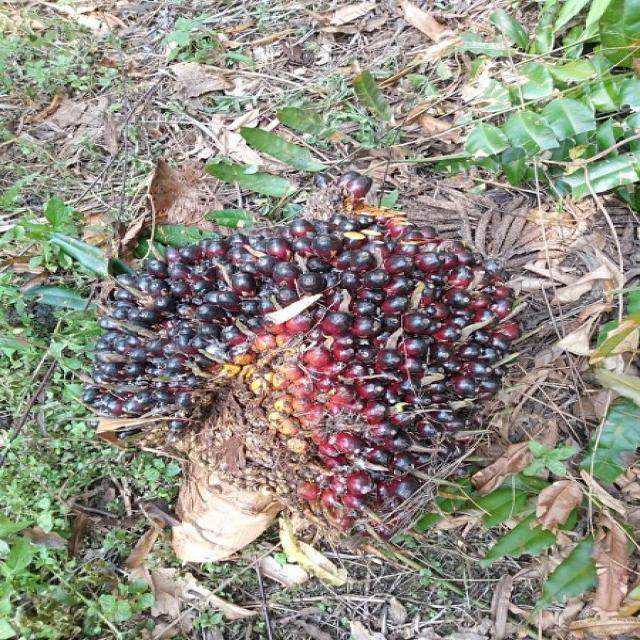fraksi 1: (82, 209, 525, 531)
